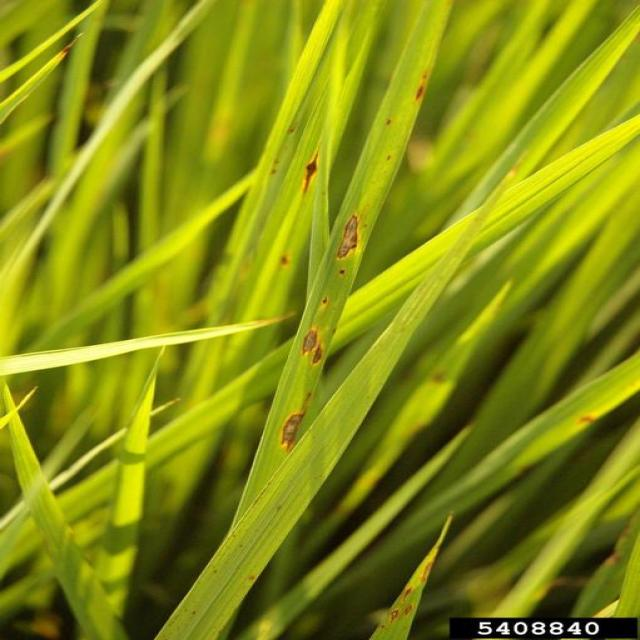Brown spot: (276, 393, 314, 459), (338, 212, 362, 265), (300, 324, 325, 366), (300, 154, 322, 194), (405, 67, 431, 96), (574, 412, 597, 428), (275, 252, 292, 270), (425, 369, 445, 382), (286, 119, 300, 135), (401, 583, 415, 597), (398, 604, 413, 617), (380, 152, 397, 162), (318, 293, 329, 305), (338, 264, 348, 277), (272, 156, 283, 166), (269, 167, 280, 177), (386, 111, 392, 129), (391, 608, 396, 622)
